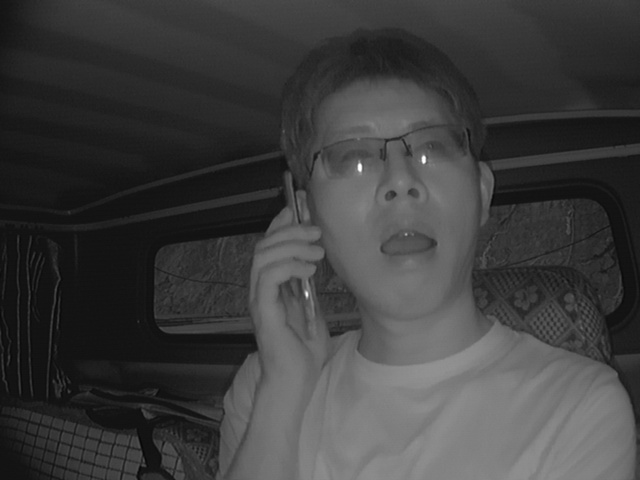hand: (233, 203, 336, 377)
